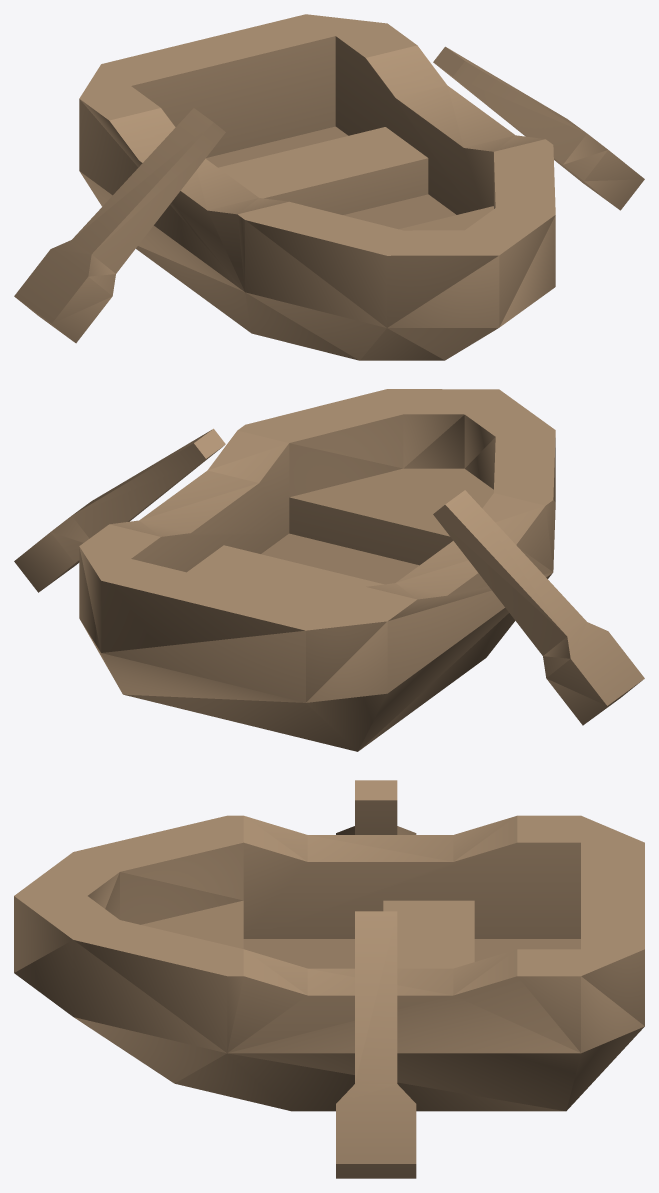
File: K_Rowboat.glb
The picture shows the model from 3 angles, top to bottom: view 1: azimuth 30°, elevation 25°; view 2: azimuth 150°, elevation 25°; view 3: azimuth 270°, elevation 25°; orthographic projection. The views are drawn at different scales.
Parts seen in each view (by area): view 1: K_Rowboat; view 2: K_Rowboat; view 3: K_Rowboat.
Boxes of the visible parts, x1,y1,x2,y2 form: K_Rowboat: (14, 14, 644, 360); K_Rowboat: (14, 389, 644, 751); K_Rowboat: (14, 780, 644, 1178).
Bounding box in the file's own units: 2.75 × 0.8477 × 2.37.
